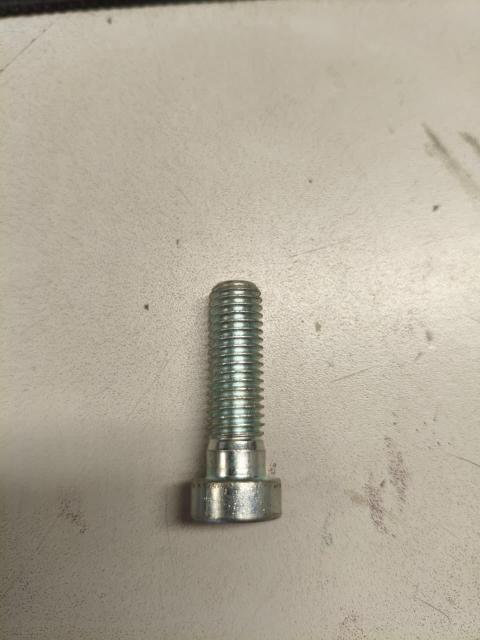Metal: (188, 268, 287, 527)
